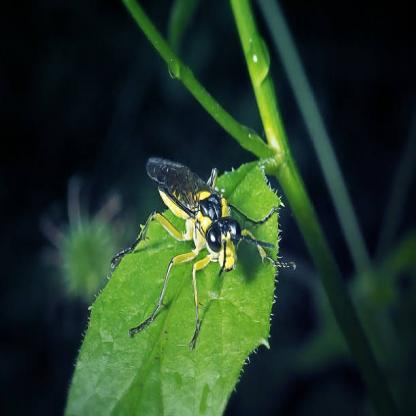sawfly: (106, 151, 298, 352)
